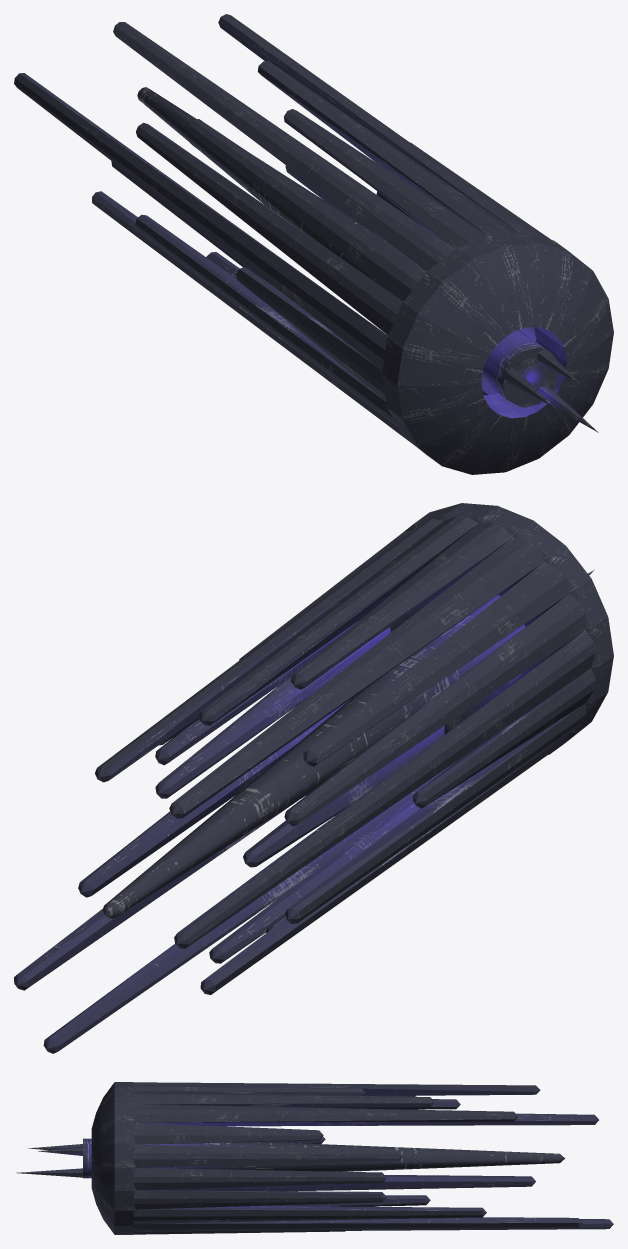
The model's file is replicator-cruiser.FBX.
The picture shows the model from 3 angles, top to bottom: view 1: azimuth 30°, elevation 25°; view 2: azimuth 150°, elevation 25°; view 3: azimuth 270°, elevation 25°; orthographic projection. The views are drawn at different scales.
Parts seen in each view (by area): view 1: Tube001, Cylinder001; view 2: Tube001, Cylinder001; view 3: Tube001, Cylinder001.
Boxes of the visible parts, x1=… form: Tube001: x1=14, y1=14, x2=613, y2=474; Cylinder001: x1=137, y1=87, x2=598, y2=432; Tube001: x1=14, y1=503, x2=613, y2=1053; Cylinder001: x1=102, y1=570, x2=594, y2=918; Tube001: x1=91, y1=1082, x2=613, y2=1234; Cylinder001: x1=16, y1=1138, x2=564, y2=1178.
Bounding box in the file's own units: 329 × 329 × 1281.
